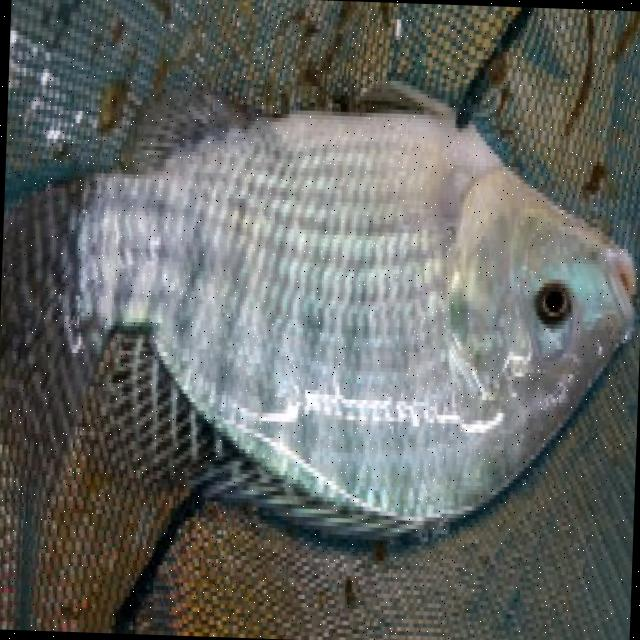ikan: (17, 48, 640, 619)
